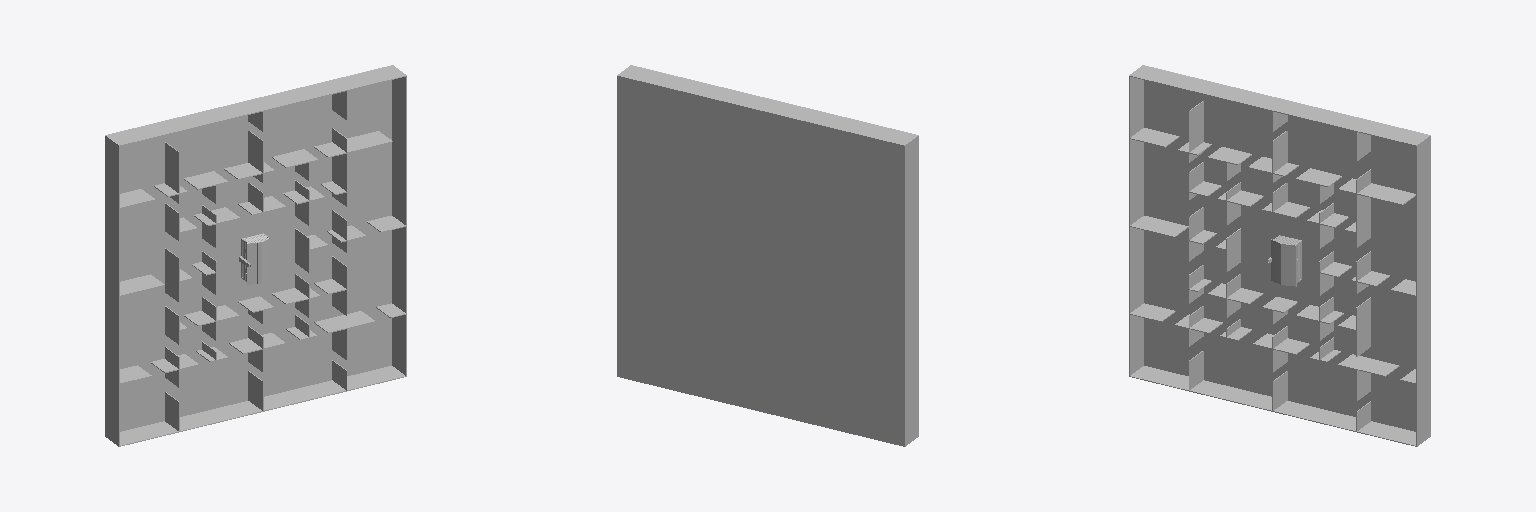
File: Boundries.obj
3 views of the same model, side by side, from view 1: azimuth 30°, elevation 25°; view 2: azimuth 150°, elevation 25°; view 3: azimuth 330°, elevation 25° (orthographic).
Parts seen in each view (by area): view 1: object_1, Basic_Wall_Generic___8___327897_, Basic_Wall_Generic___8___327465_, Basic_Wall_Generic___8___328467_, Basic_Wall_Generic___8___328187_, Roof, Basic_Wall_Generic___8___332731_, Basic_Wall_Generic___8___334553_, Basic_Wall_Generic___8___325625_, Basic_Wall_Generic___8___336397_, Basic_Wall_Generic___8___326178_, Basic_Wall_Generic___8___333853_ (+3 smaller); view 2: object_1, Basic_Wall_Generic___8___327897_, Basic_Wall_Generic___8___327465_; view 3: object_1, Basic_Wall_Generic___8___328467_, Basic_Wall_Generic___8___327465_, Basic_Wall_Generic___8___327897_, Basic_Wall_Generic___8___328187_, Roof, Basic_Wall_Generic___8___332731_, Basic_Wall_Generic___8___326178_, Basic_Wall_Generic___8___334553_, Basic_Wall_Generic___8___333853_, Basic_Wall_Generic___8___325625_, Basic_Wall_Generic___8___329425_ (+3 smaller).
Part boxes in pixels (x1,y1,x2,y2): object_1: (120,80,391,431); Basic_Wall_Generic___8___327897_: (105,137,119,446); Basic_Wall_Generic___8___327465_: (105,65,405,146); Basic_Wall_Generic___8___328467_: (392,65,406,375); Basic_Wall_Generic___8___328187_: (120,366,406,446); Roof: (247,238,272,284); Basic_Wall_Generic___8___332731_: (332,128,346,206); Basic_Wall_Generic___8___334553_: (314,311,375,333); Basic_Wall_Generic___8___325625_: (165,142,179,203); Basic_Wall_Generic___8___336397_: (165,248,179,301); Basic_Wall_Generic___8___326178_: (332,256,346,315); Basic_Wall_Generic___8___333853_: (347,131,392,152); object_1: (618,77,903,445); Basic_Wall_Generic___8___327897_: (904,137,918,446); Basic_Wall_Generic___8___327465_: (618,65,918,146); object_1: (1144,80,1415,431); Basic_Wall_Generic___8___328467_: (1416,135,1430,445); Basic_Wall_Generic___8___327465_: (1129,65,1429,145); Basic_Wall_Generic___8___327897_: (1129,76,1143,376); Basic_Wall_Generic___8___328187_: (1130,366,1430,446); Roof: (1271,239,1296,286); Basic_Wall_Generic___8___332731_: (1356,169,1370,247); Basic_Wall_Generic___8___326178_: (1356,297,1370,356); Basic_Wall_Generic___8___334553_: (1338,354,1399,376); Basic_Wall_Generic___8___333853_: (1357,183,1415,205); Basic_Wall_Generic___8___325625_: (1189,101,1203,162); Basic_Wall_Generic___8___329425_: (1130,216,1188,237).
Size of the model in its own units: 232 by 232 by 20.